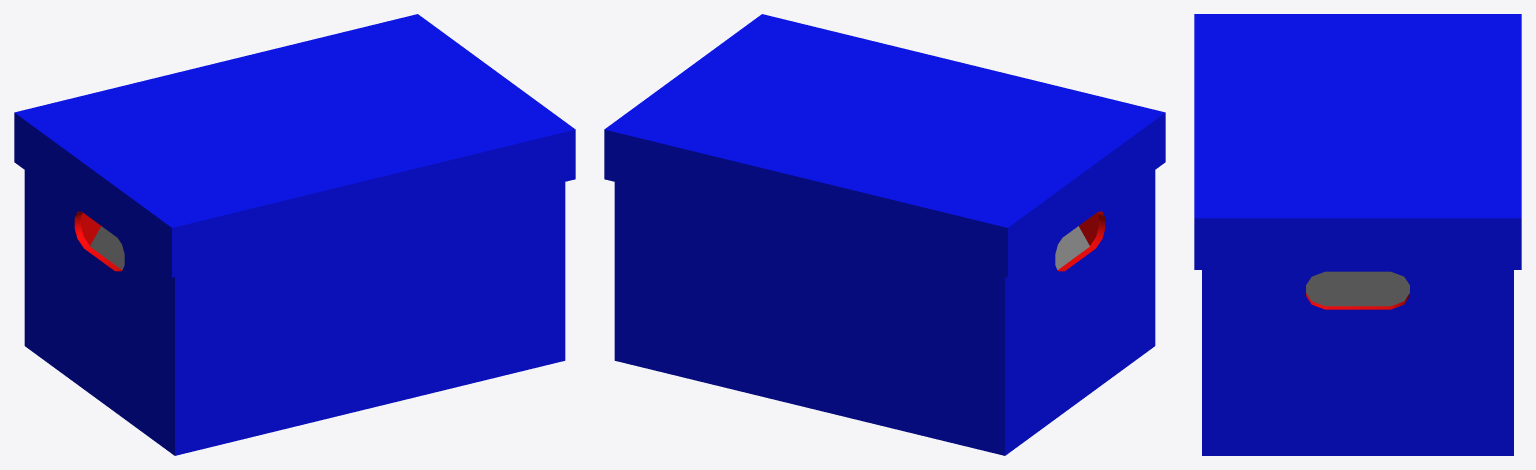
The model's file is Her_boxoffileswithlid_ZW.fbx.
3 renders of one model, left to right at view 1: azimuth 30°, elevation 25°; view 2: azimuth 150°, elevation 25°; view 3: azimuth 270°, elevation 25°, orthographic. The views are drawn at different scales.
Visible parts, largest first — view 1: Box001, Box002, Box003; view 2: Box001, Box002, Box003; view 3: Box002, Box001, Box003.
Boxes of the visible parts, <box> form: Box001: <box>24,170,565,455</box>; Box002: <box>14,14,575,277</box>; Box003: <box>90,226,124,269</box>; Box001: <box>614,170,1155,455</box>; Box002: <box>604,14,1165,277</box>; Box003: <box>1055,226,1089,269</box>; Box002: <box>1194,14,1521,269</box>; Box001: <box>1202,270,1513,455</box>; Box003: <box>1306,271,1409,306</box>.
Bounding box in the file's own units: 31 × 17.05 × 21.
